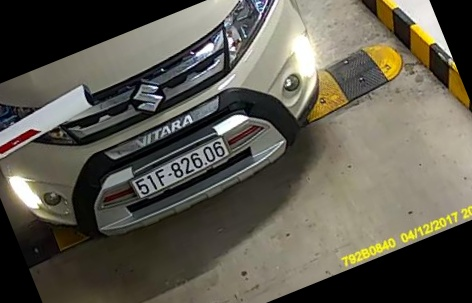plate: (129, 139, 242, 200)
